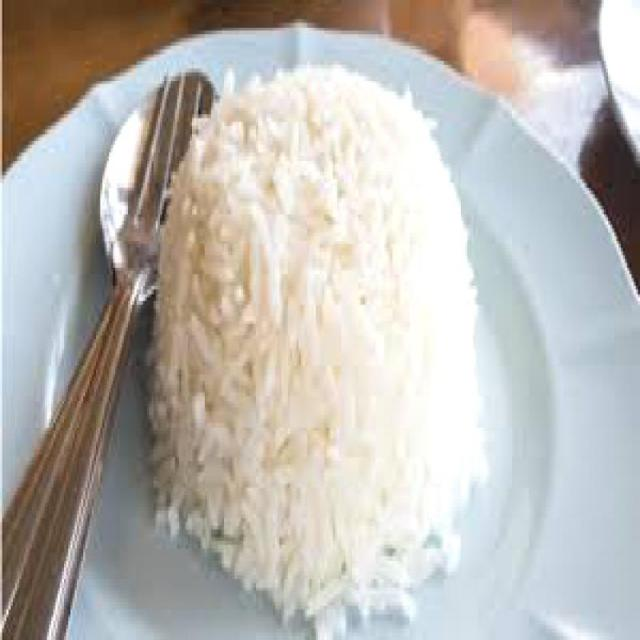rice: (0, 60, 639, 439)
